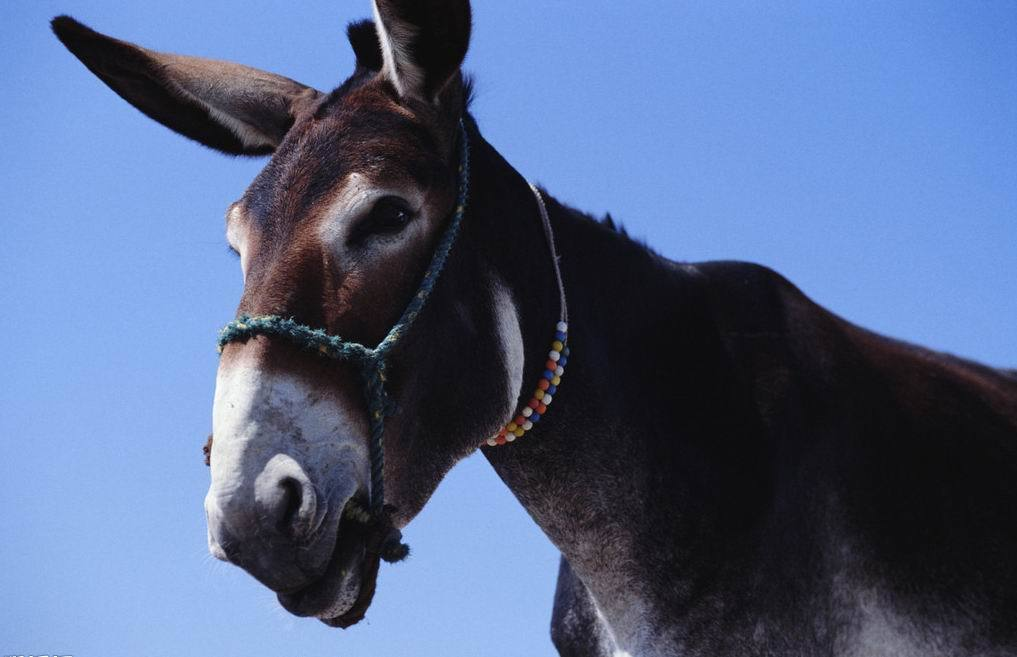background: (130, 135, 537, 538)
